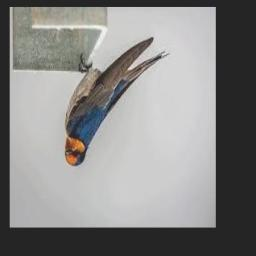Swallow: (65, 37, 170, 166)
